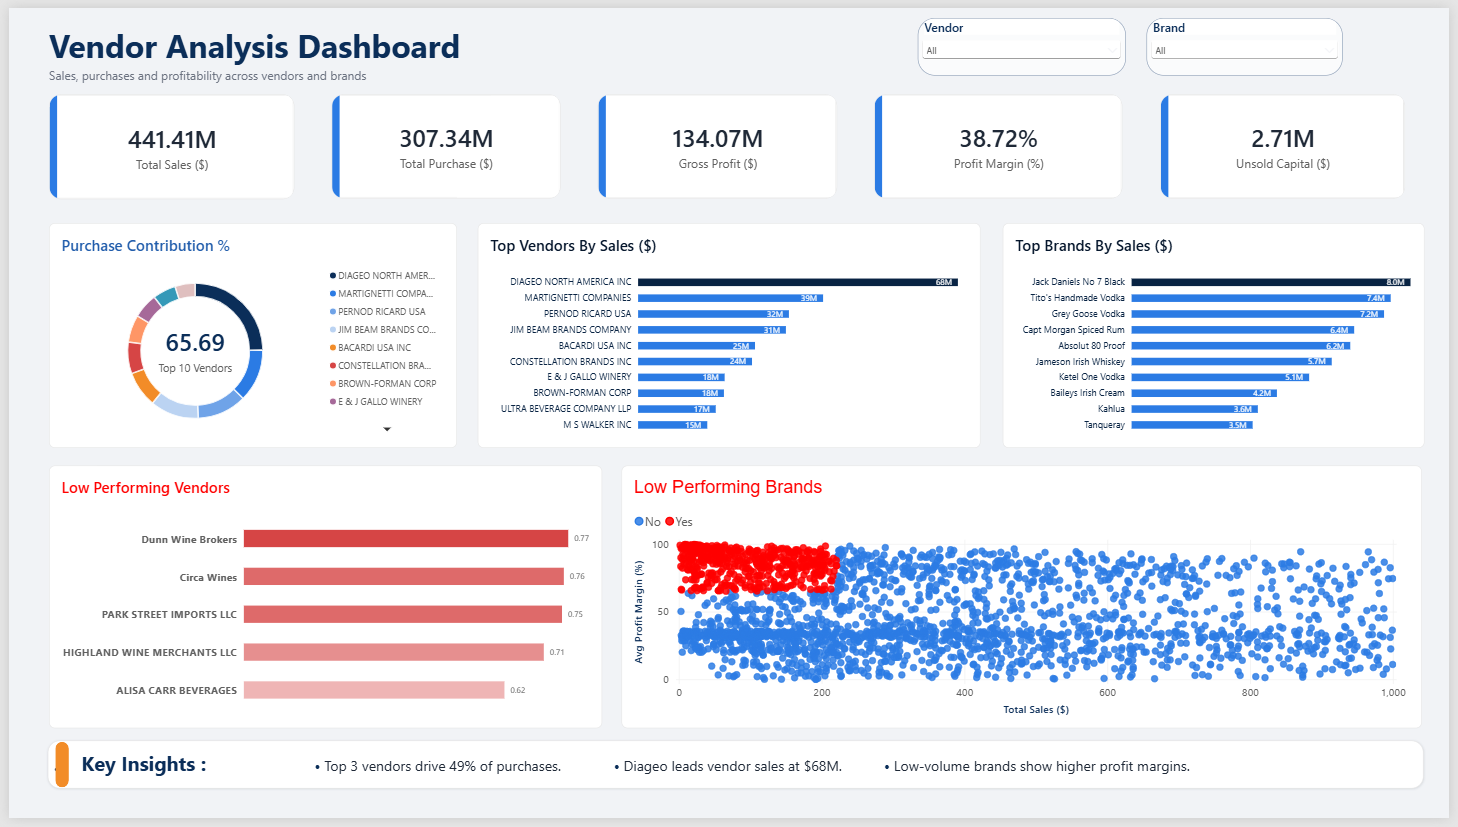

The dashboard page shown, as its layout file describes it:
{"tool":"powerbi","page":{"name":"Page 1","canvas":[1920,1080],"ordinal":0},"visuals":[{"type":"cardVisual","fields":{"Data":["Sum(vendor_sales_summary.TotalSalesDollars)"]},"box":[52.5,115,327.5,140],"z":0},{"type":"cardVisual","fields":{"Data":["Sum(vendor_sales_summary.TotalPurchaseDollars)"]},"box":[429.8,115.1,305.2,139.5],"z":1000},{"type":"cardVisual","fields":{"Data":["Sum(vendor_sales_summary.GrossProfit)"]},"box":[784.8,115.1,319.2,139.5],"z":2000},{"type":"cardVisual","fields":{"Data":["Avg(vendor_sales_summary.ProfitMargin_Corrected)"]},"box":[1153.7,115.1,331.4,139.5],"z":3000},{"type":"cardVisual","fields":{"Data":["Sum(vendor_sales_summary.UnsoldCapital)"]},"box":[1534.9,115.1,326.2,139.5],"z":4000},{"type":"donutChart","title":"Purchase Contribution %","fields":{"Category":["PurchaseContribution.VendorName"],"Y":["Sum(PurchaseContribution.PurchaseContribution%)"]},"box":[52.9,287.1,544.3,300],"z":5000},{"type":"barChart","title":"Top Vendors By Sales ($)","fields":{"Category":["vendor_sales_summary.VendorName"],"Y":["Sum(vendor_sales_summary.TotalSalesDollars)"]},"box":[625.7,287.1,670,300],"z":6000},{"type":"barChart","title":"Top Brands By Sales ($)","fields":{"Category":["vendor_sales_summary.Description"],"Y":["Sum(vendor_sales_summary.TotalSalesDollars)"]},"box":[1324.3,287.1,562.5,300],"z":7000},{"type":"barChart","title":"Low Performing Vendors","fields":{"Category":["LowTurnoverVendor.VendorName"],"Y":["Avg(LowTurnoverVendor.AvgStockTurnOver)"]},"box":[52.5,610,737.5,350],"z":8000},{"type":"scatterChart","title":"Low Performing Brands","fields":{"Category":["BrandPerformance.Description"],"Series":["BrandPerformance.TargetBrand"],"X":["Sum(BrandPerformance.TotalSales)"],"Y":["Avg(BrandPerformance.AvgProfitMargin)"]},"box":[817.1,610,1067.1,350],"z":9000},{"type":"textbox","box":[53.3,20,588.3,71.7],"z":10000},{"type":"textbox","box":[53,78,441,33],"z":11000},{"type":"slicer","fields":{"Values":["vendor_sales_summary.VendorName"]},"box":[1212.2,14,277.3,76.7],"z":12000},{"type":"slicer","fields":{"Values":["vendor_sales_summary.Brand"]},"box":[1517.4,14,261.6,76.7],"z":13000},{"type":"textbox","box":[52,976,1834,64],"z":13001},{"type":"shape","box":[60.9,979.1,18.2,60.9],"z":13002}]}

Visuals, with their boxes in screenshot pixels (x1, y1, x2, y2), scaled from the page's 1920x1080 canvas onto the 1458x827 screenshot:
cardVisual - Sum(vendor_sales_summary.TotalSalesDollars): 40, 88, 289, 195
cardVisual - Sum(vendor_sales_summary.TotalPurchaseDollars): 326, 88, 558, 195
cardVisual - Sum(vendor_sales_summary.GrossProfit): 596, 88, 838, 195
cardVisual - Avg(vendor_sales_summary.ProfitMargin_Corrected): 876, 88, 1128, 195
cardVisual - Sum(vendor_sales_summary.UnsoldCapital): 1166, 88, 1413, 195
"Purchase Contribution %" donutChart: 40, 220, 453, 450
"Top Vendors By Sales ($)" barChart: 475, 220, 984, 450
"Top Brands By Sales ($)" barChart: 1006, 220, 1433, 450
"Low Performing Vendors" barChart: 40, 467, 600, 735
"Low Performing Brands" scatterChart: 620, 467, 1431, 735
textbox: 40, 15, 487, 70
textbox: 40, 60, 375, 85
slicer - vendor_sales_summary.VendorName: 921, 11, 1131, 69
slicer - vendor_sales_summary.Brand: 1152, 11, 1351, 69
textbox: 39, 747, 1432, 796
shape: 46, 750, 60, 796
